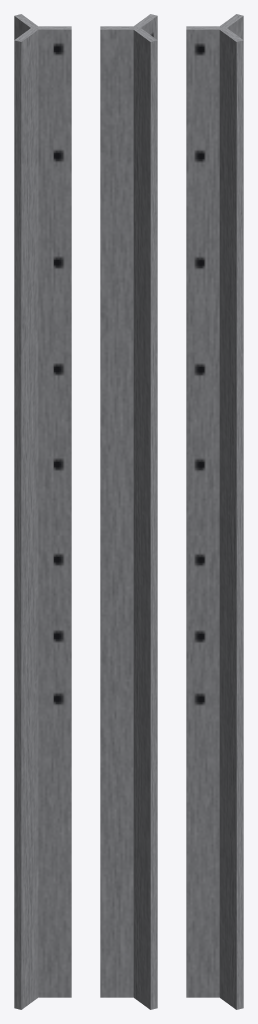
Rendered from fence-low-mesh-post-cbj_LOD00.gltf.
3 views of the same model, side by side, from view 1: azimuth 90°, elevation 25°; view 2: azimuth 150°, elevation 25°; view 3: azimuth 270°, elevation 25° (orthographic).
Visible parts, largest first — view 1: Cube; view 2: Cube; view 3: Cube.
Boxes of the visible parts, bbox=[...] form: Cube: bbox=[14, 14, 71, 1009]; Cube: bbox=[100, 14, 157, 1009]; Cube: bbox=[186, 14, 243, 1009].
Size of the model in its own units: 0.0951 by 1.53 by 0.0824.
